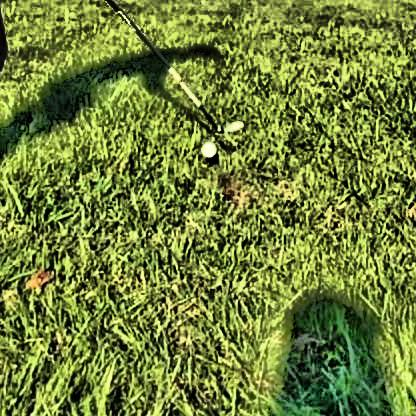golfball: (198, 138, 215, 155)
